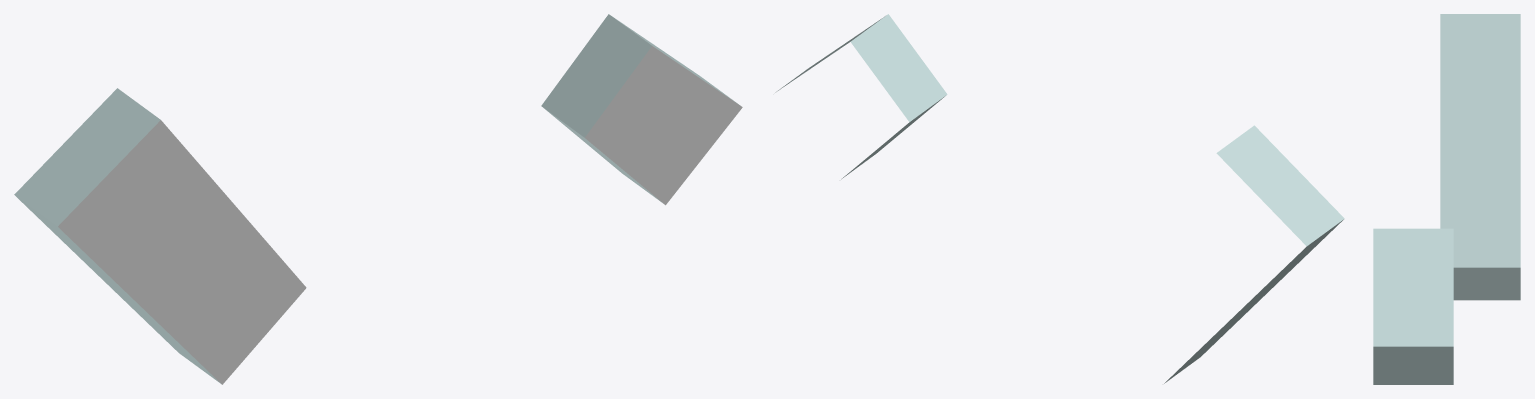
The picture shows the model from 3 angles, left to right: view 1: azimuth 30°, elevation 25°; view 2: azimuth 150°, elevation 25°; view 3: azimuth 270°, elevation 25°; orthographic projection. The views are drawn at different scales.
Visible parts, largest first — view 1: 0_2_2_3_1_2_2_3_2; view 2: 0_2_2_3_1_2_2_3_2; view 3: 0_2_2_3_1_2_2_3_2.
Boxes of the visible parts, x1,y1,x2,y2 form: 0_2_2_3_1_2_2_3_2: [14, 14, 742, 384]; 0_2_2_3_1_2_2_3_2: [775, 14, 1344, 383]; 0_2_2_3_1_2_2_3_2: [1373, 14, 1520, 384].
Size of the model in its own units: 25.81 by 10.65 by 5.51.
